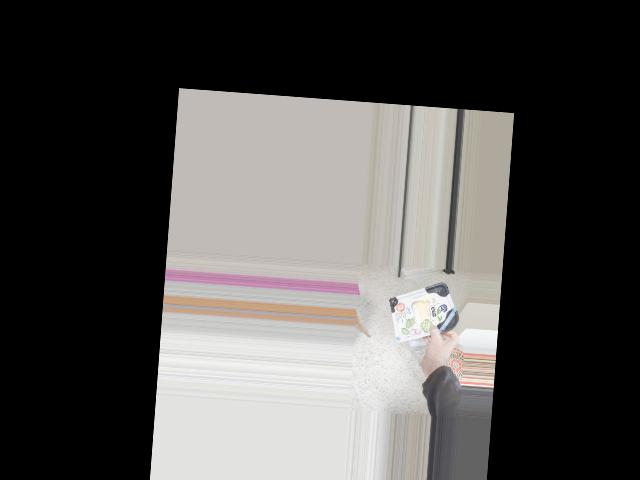cheese: (388, 288, 458, 340)
